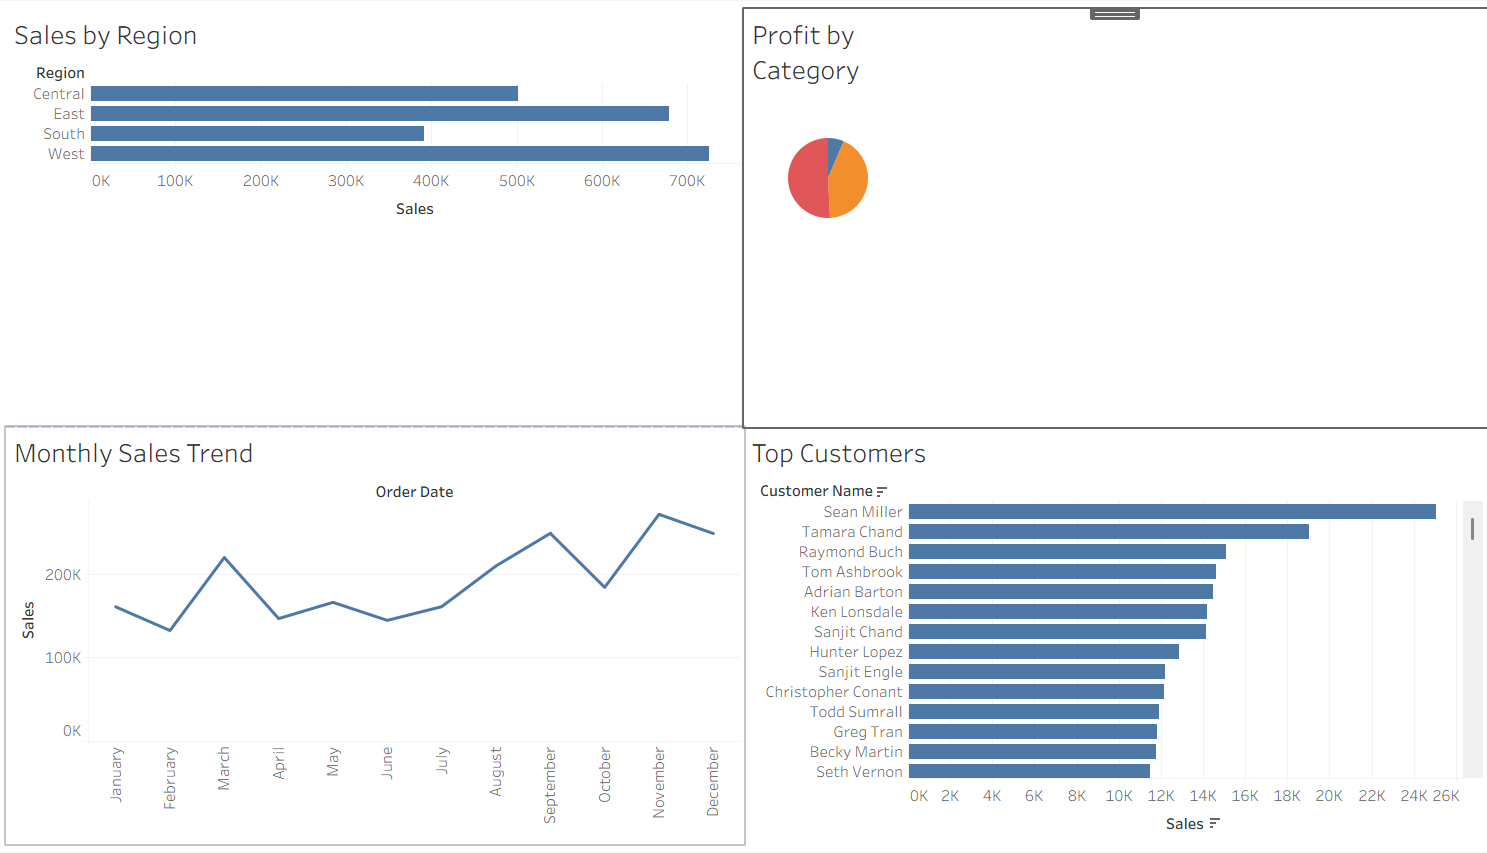

This screenshot's page, from the dashboard's own definition file:
{"tool":"tableau","page":{"name":"Sales Dashboard Analysis","canvas":[1000,1000],"units":"permille","ordinal":0},"visuals":[{"type":"worksheet","title":"Sales by Region","mark":"Automatic","rows":["Region"],"cols":["Sales"],"box":[4.8,9.4,445.5,490.6]},{"type":"worksheet","title":"Profit by Category","mark":"Pie","box":[450.3,9.4,448.3,490.6]},{"type":"legend","title":"Profit by Category","param":"[federated.1cfrbe51cgu6ec13a56ee0zbxept].[none:Category:nk]","box":[898.6,9.4,96.6,109.3]},{"type":"legend","title":"Profit by Category","param":"[federated.1cfrbe51cgu6ec13a56ee0zbxept].[sum:Profit:qk]","box":[898.6,118.7,96.6,59.9]},{"type":"worksheet","title":"Monthly Sales Trend","mark":"Automatic","rows":["Sales"],"cols":["Order Date"],"box":[4.8,500,445.5,490.6]},{"type":"worksheet","title":"Top Customers","mark":"Automatic","rows":["Customer Name"],"cols":["Sales"],"box":[450.3,500,448.3,490.6]}]}

Visuals, with their boxes on the dashboard's canvas, which has no fixed pixel size, in thousandths of its width and height (x1, y1, x2, y2). These are canvas units, not pixel positions in the 1487x853 screenshot, which may show the page scaled, cropped or inside an application window:
"Sales by Region" worksheet: {"x1": 5, "y1": 9, "x2": 450, "y2": 500}
"Profit by Category" worksheet (Pie marks): {"x1": 450, "y1": 9, "x2": 899, "y2": 500}
"Profit by Category" legend: {"x1": 899, "y1": 9, "x2": 995, "y2": 119}
"Profit by Category" legend: {"x1": 899, "y1": 119, "x2": 995, "y2": 179}
"Monthly Sales Trend" worksheet: {"x1": 5, "y1": 500, "x2": 450, "y2": 991}
"Top Customers" worksheet: {"x1": 450, "y1": 500, "x2": 899, "y2": 991}
